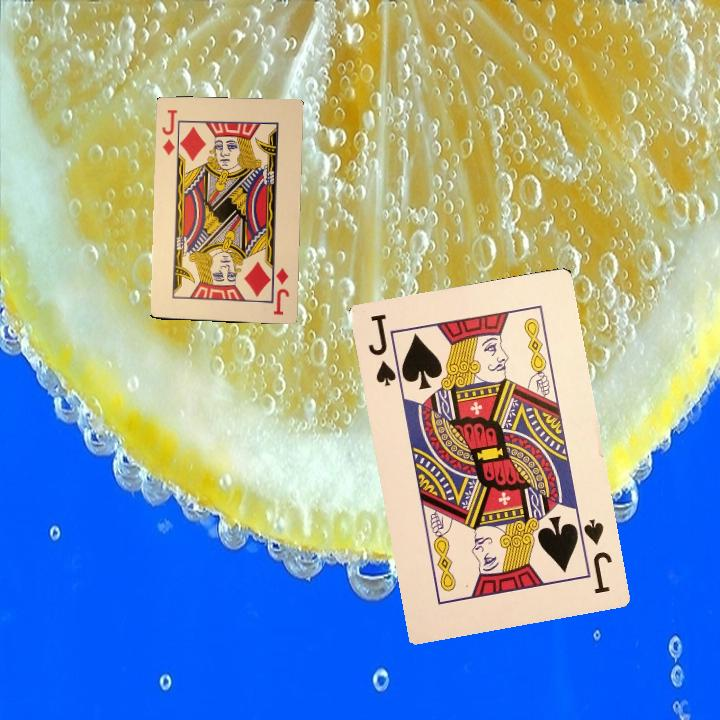Jd: (267, 261, 291, 317), (158, 105, 180, 157)
Js: (364, 310, 406, 390), (573, 517, 614, 597)
